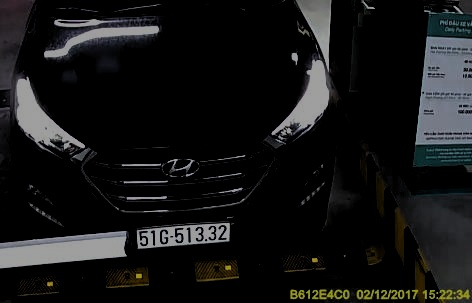plate: (134, 224, 232, 247)
